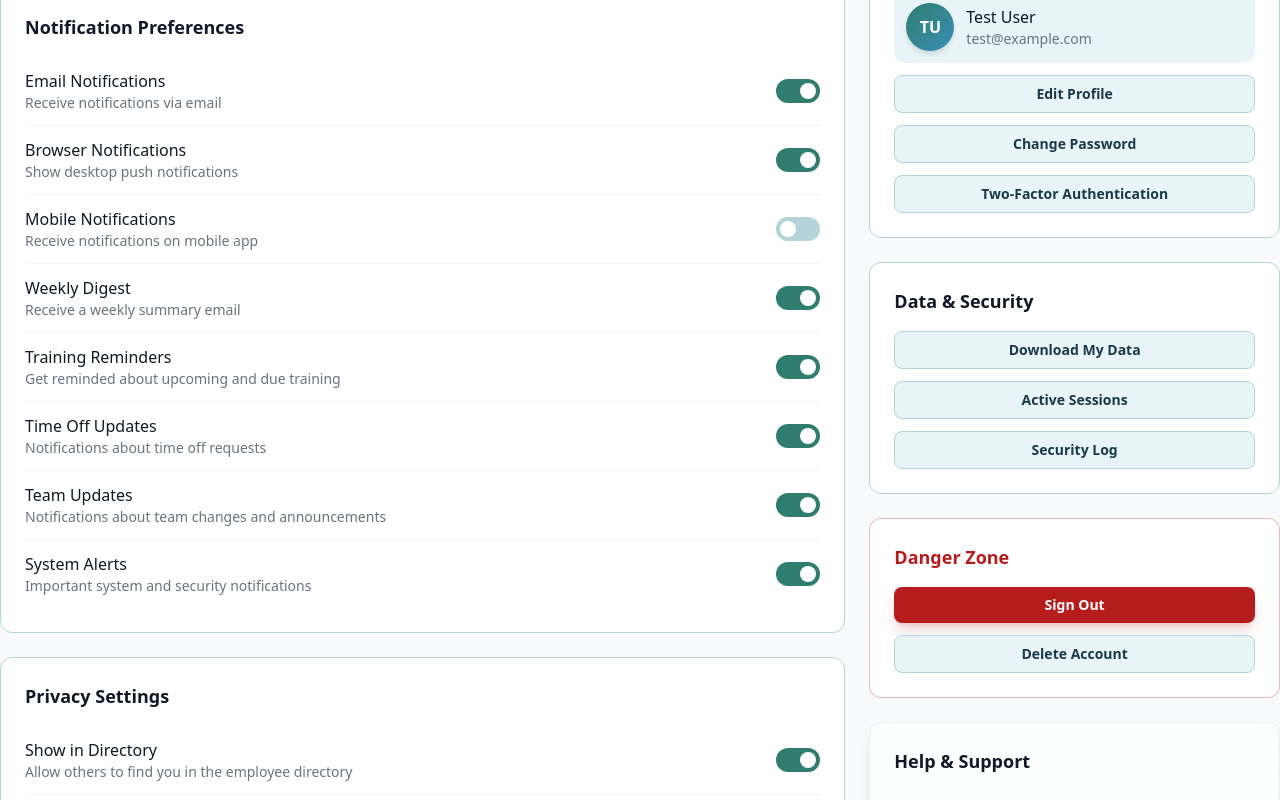
Test: Settings Component › opens Active Sessions modal when clicked
(page scrolled)
Click the button with test id "active-sessions-button".
click(1075, 400)  # box [894,381,1255,419]
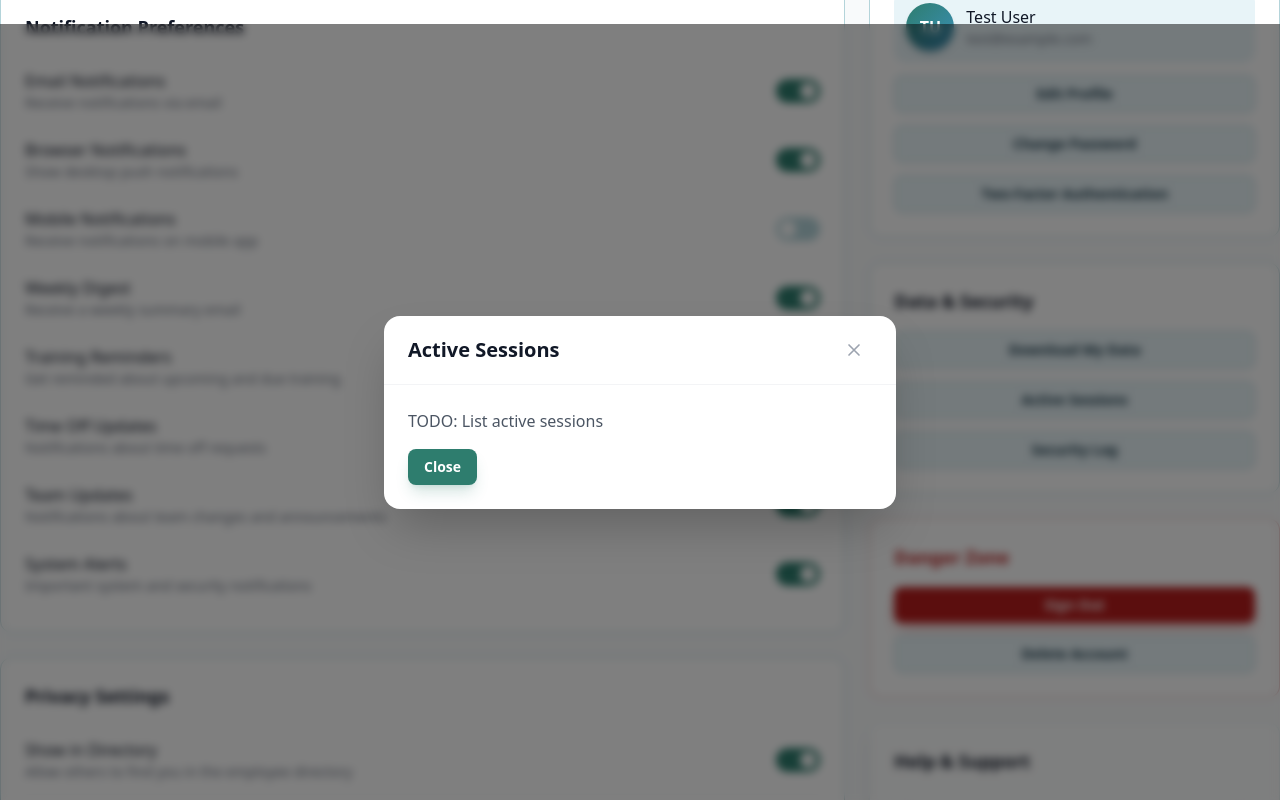
Expected: the text "TODO: List active sessions" is shown, [408,410,603,432]
